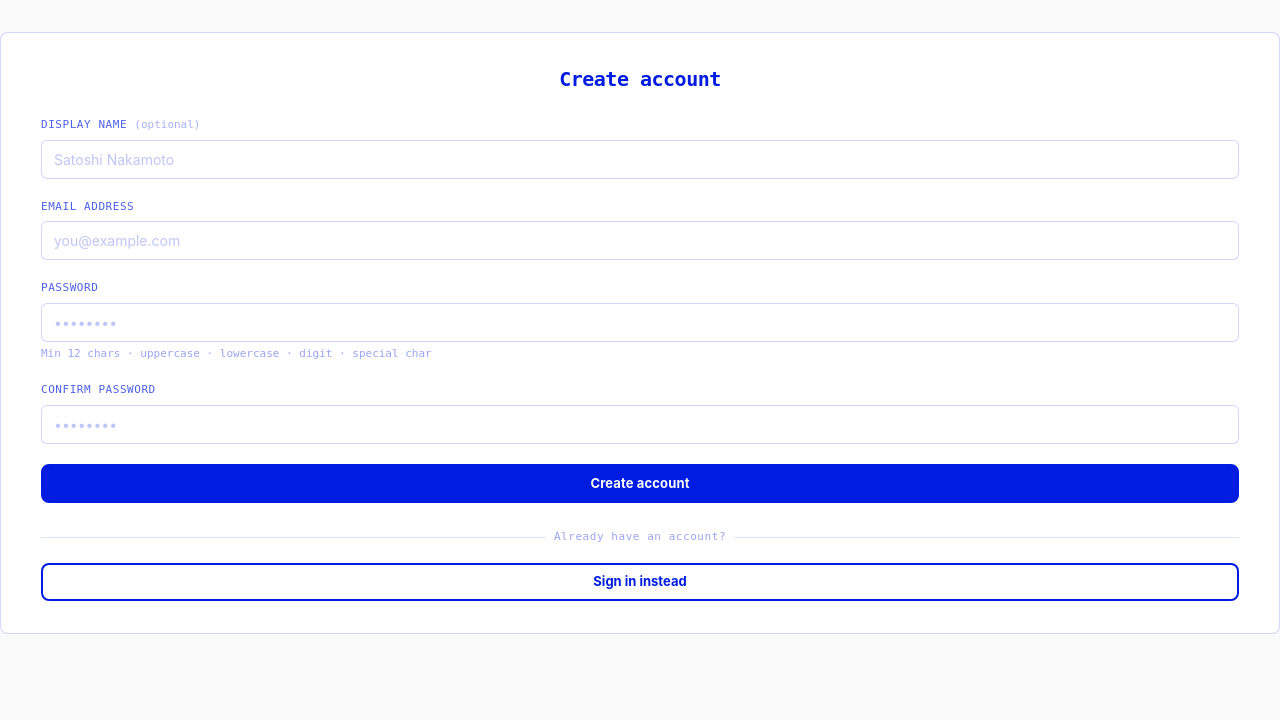
Authentication Flow Integration › Error Handling › handles network errors during registration
Type "test@example.com" into the field labelled "Email address" at (640,240), box [41,221,1239,260]
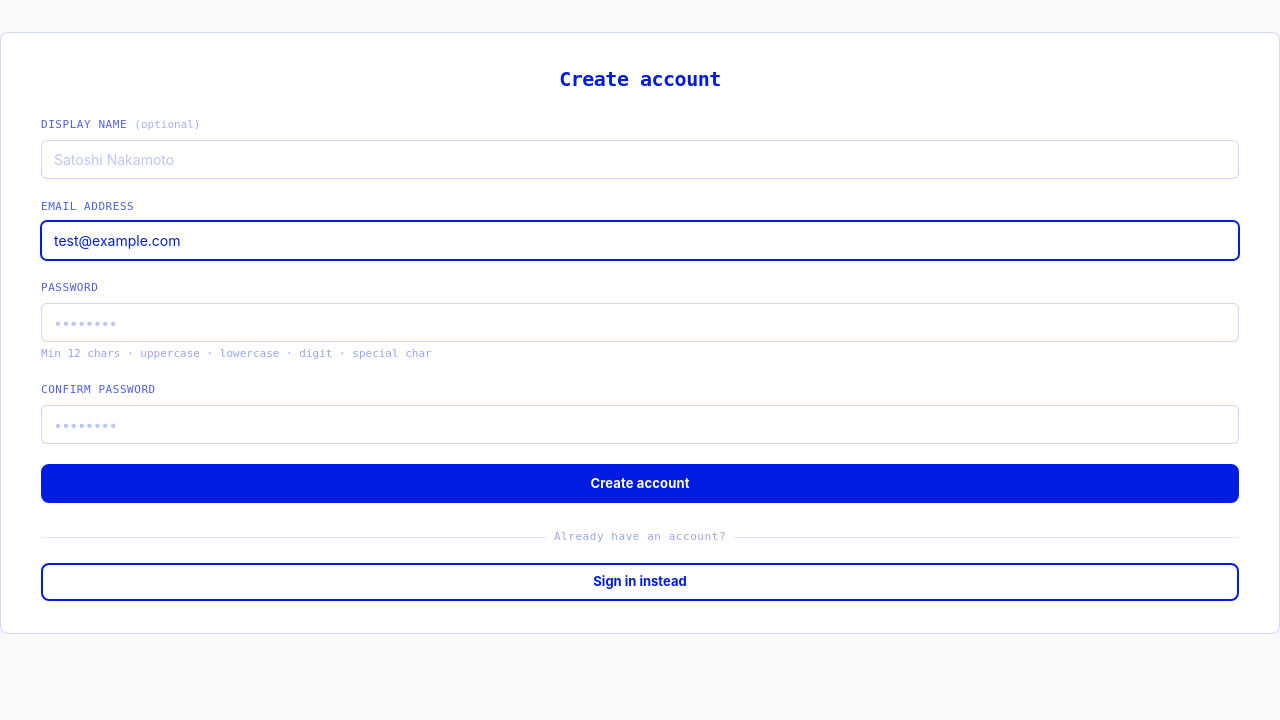
Type "SecurePass123!" into the password field labelled "Password" at (640,322), box [41,302,1239,342]
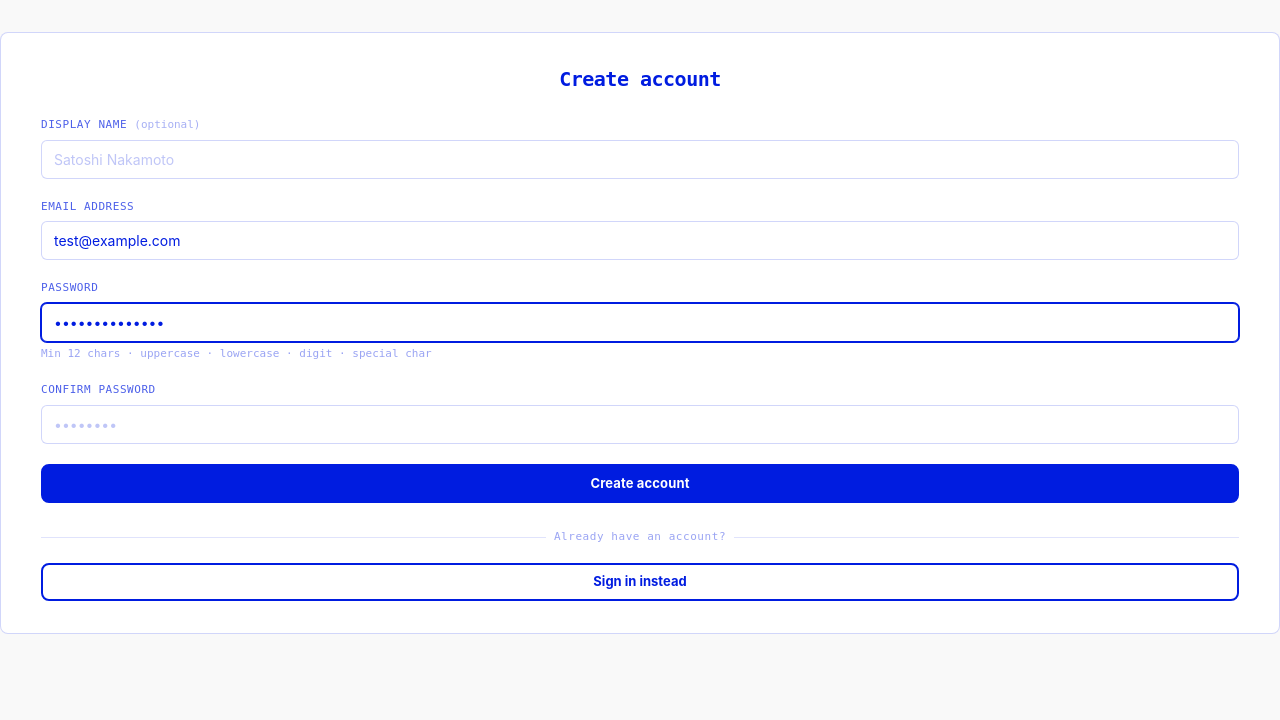
Type "SecurePass123!" into the password field labelled "Confirm password" at (640,424), box [41,404,1239,444]
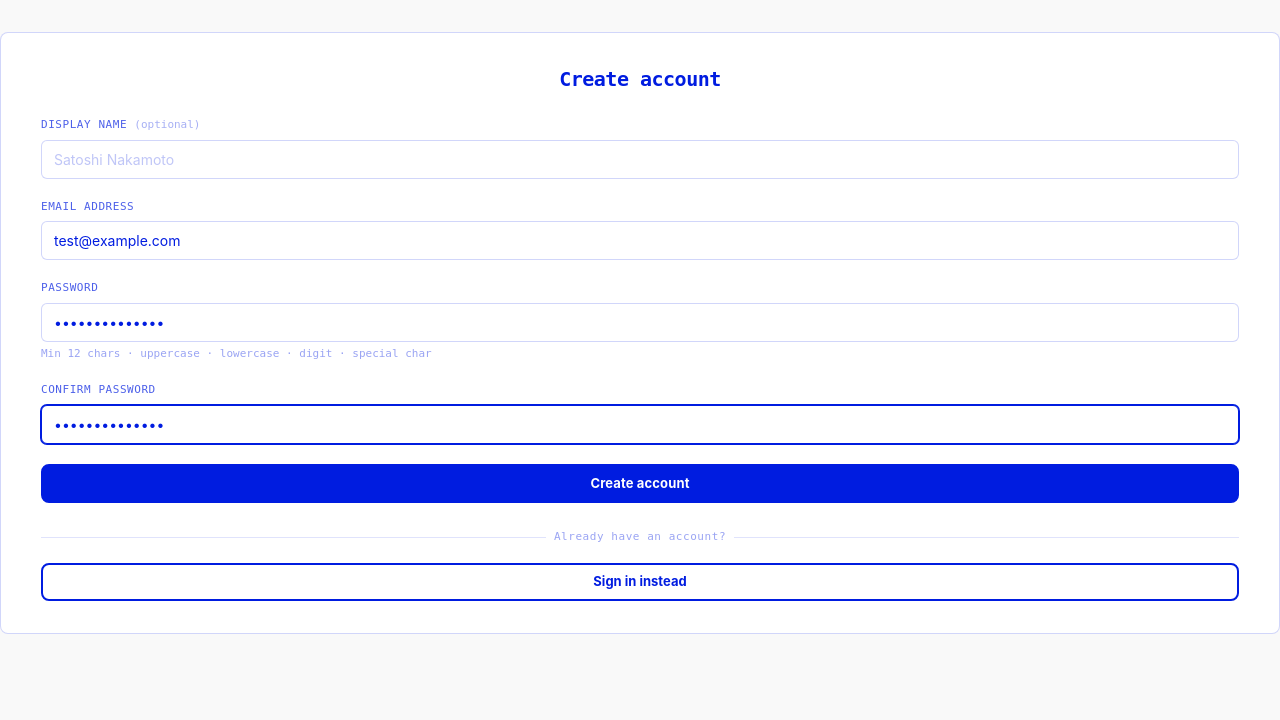
Click the button "Create account" at (640,483), box [41,464,1239,503]
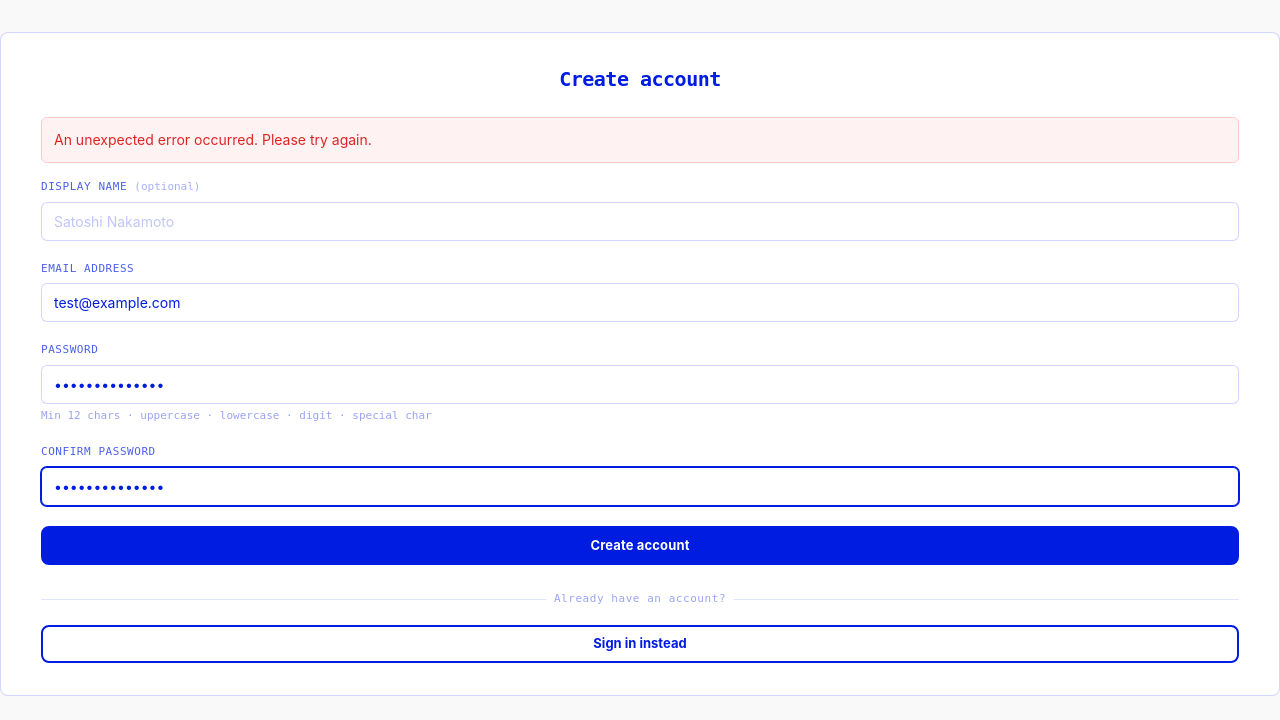
Check: the text "An unexpected error occurred. Please try again." is shown, box [54,131,372,148]
